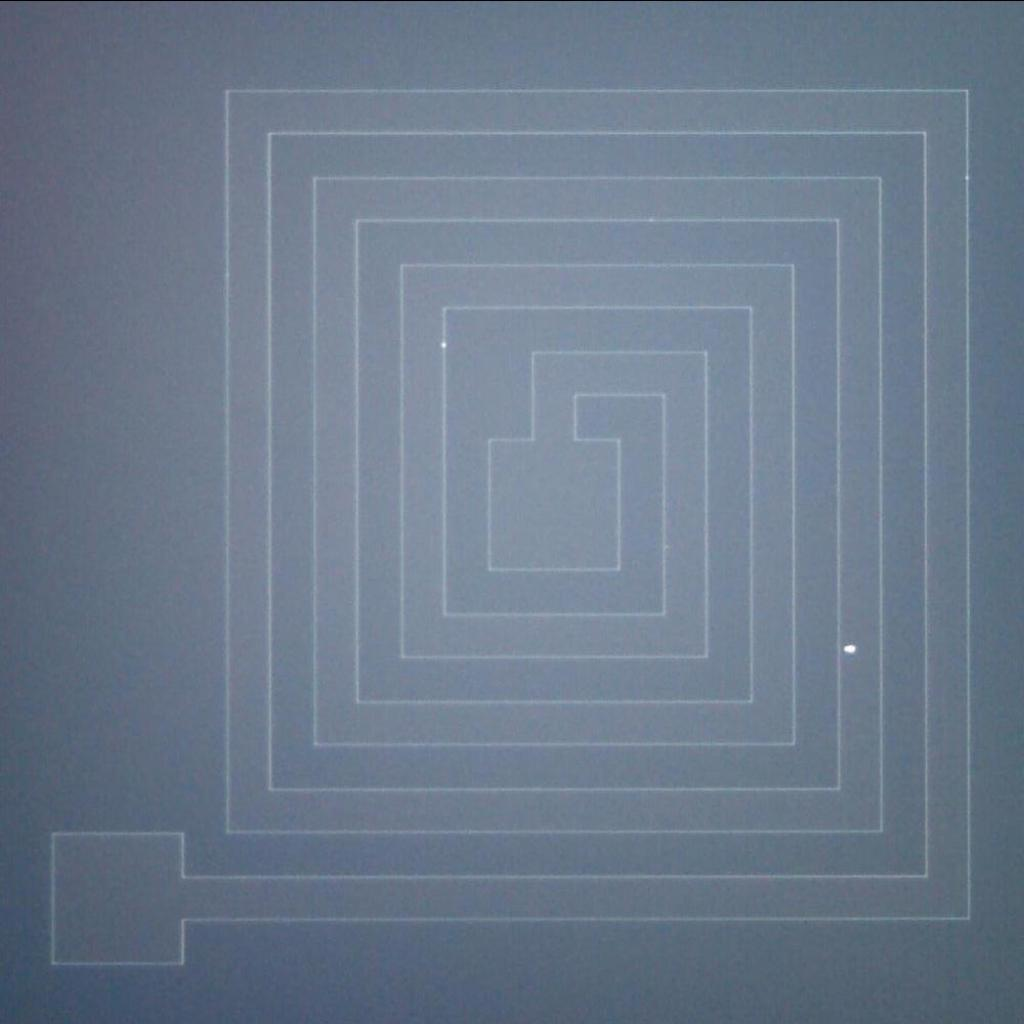dot: (426, 326, 456, 360)
spot: (836, 633, 862, 662)
